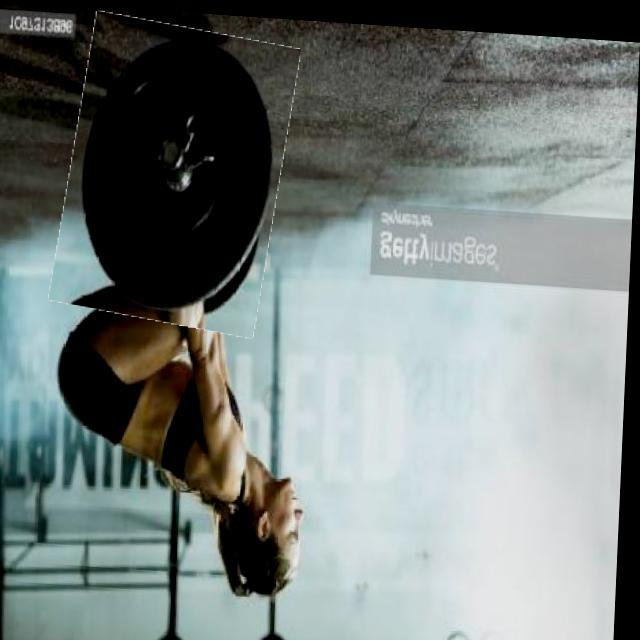barbell: (59, 14, 294, 332)
